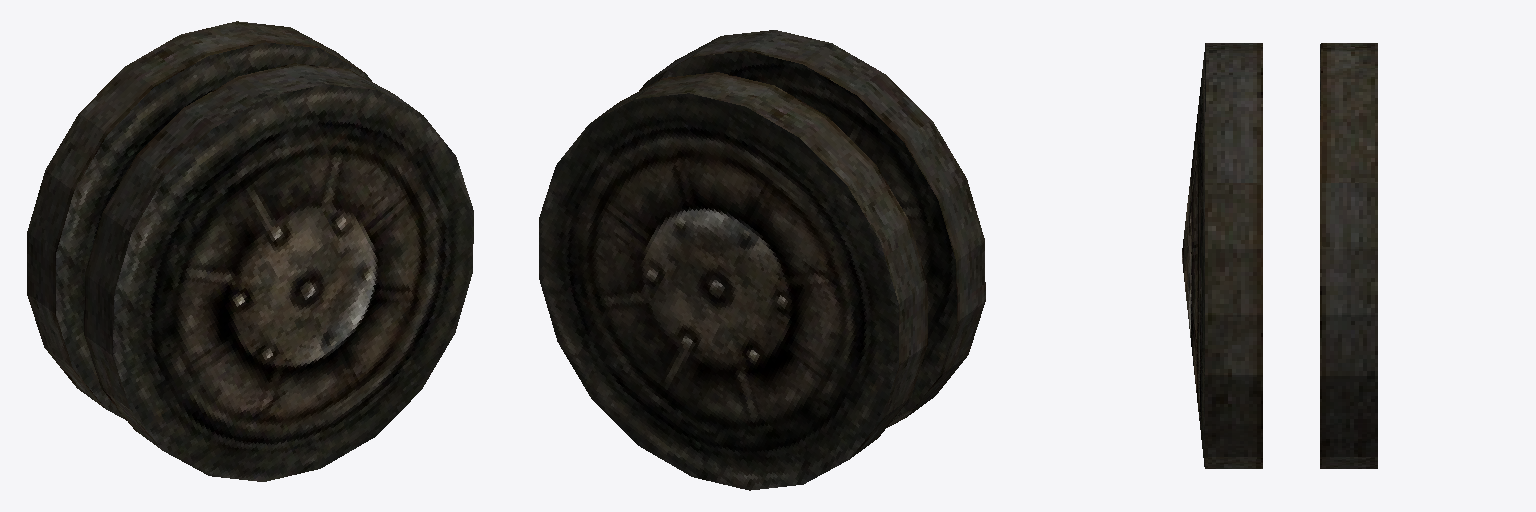
3 renders of one model, left to right at view 1: azimuth 30°, elevation 25°; view 2: azimuth 150°, elevation 25°; view 3: azimuth 270°, elevation 25°, orthographic.
Parts seen in each view (by area): view 1: lw_b_DrawCall_8_DrawCall_8.000; view 2: lw_b_DrawCall_8_DrawCall_8.000; view 3: lw_b_DrawCall_8_DrawCall_8.000.
Boxes of the visible parts, <box> form: lw_b_DrawCall_8_DrawCall_8.000: <box>27,21,473,481</box>; lw_b_DrawCall_8_DrawCall_8.000: <box>539,30,985,490</box>; lw_b_DrawCall_8_DrawCall_8.000: <box>1182,43,1377,468</box>.
Bounding box in the file's own units: 1 × 1.02 × 0.473.
1 materials, 1 textured.